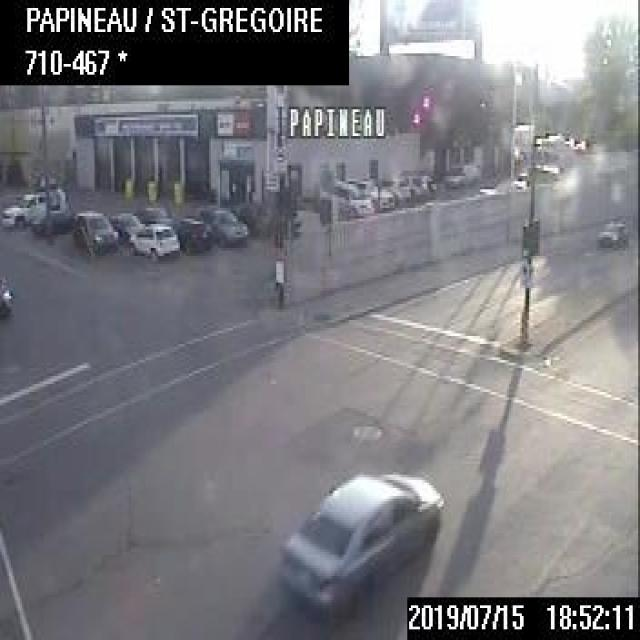vehicle: (275, 461, 447, 619), (0, 188, 69, 225), (317, 176, 372, 222), (73, 208, 118, 256), (128, 221, 178, 263), (202, 202, 247, 248), (174, 214, 209, 252), (354, 178, 394, 211), (33, 207, 73, 233), (107, 210, 140, 240), (594, 216, 626, 245), (138, 203, 176, 223), (0, 269, 13, 320)
